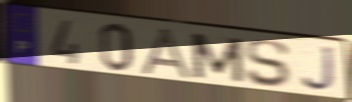0: (97, 21, 135, 73)
4: (50, 19, 82, 66)
A: (138, 27, 198, 82)
J: (299, 45, 339, 94)
M: (188, 31, 247, 85)
S: (243, 39, 292, 89)
